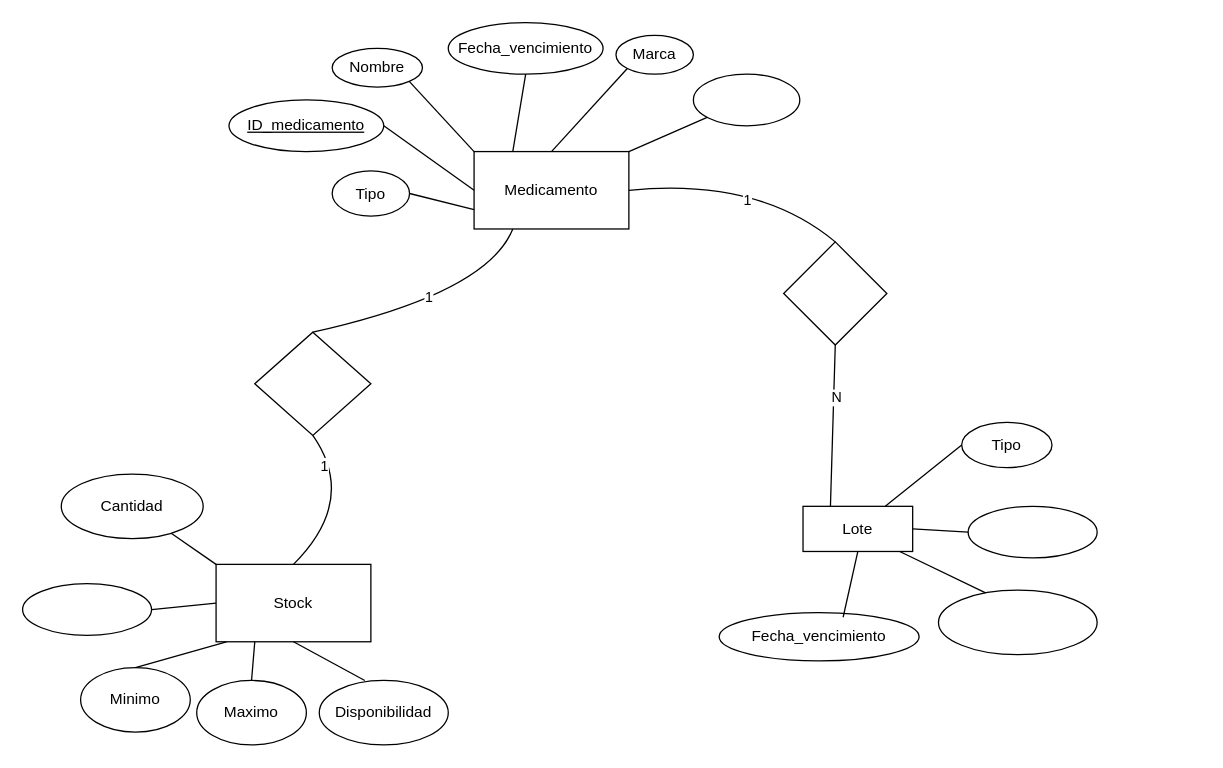
This 1223x768 diagram has some shape labels left out. The shapes that lost their labels are listed below. From the top down, each one's centre as x and y in pixels, then its label:
At (746,99): "Precio".
At (834,293): "TIene".
At (312,383): "Pertenece".
At (1032,531): "ID_lote".
At (86,608): "ID_stock".
At (1017,622): "Cantidad_actual".
